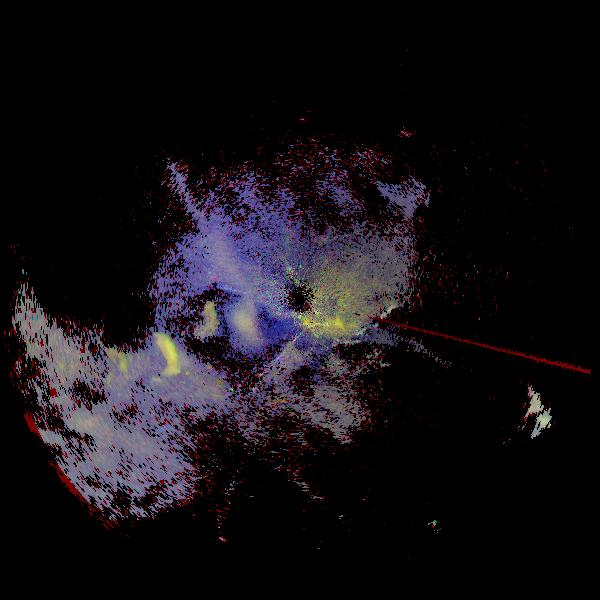roost: (117, 318, 201, 402), (167, 284, 239, 356)
